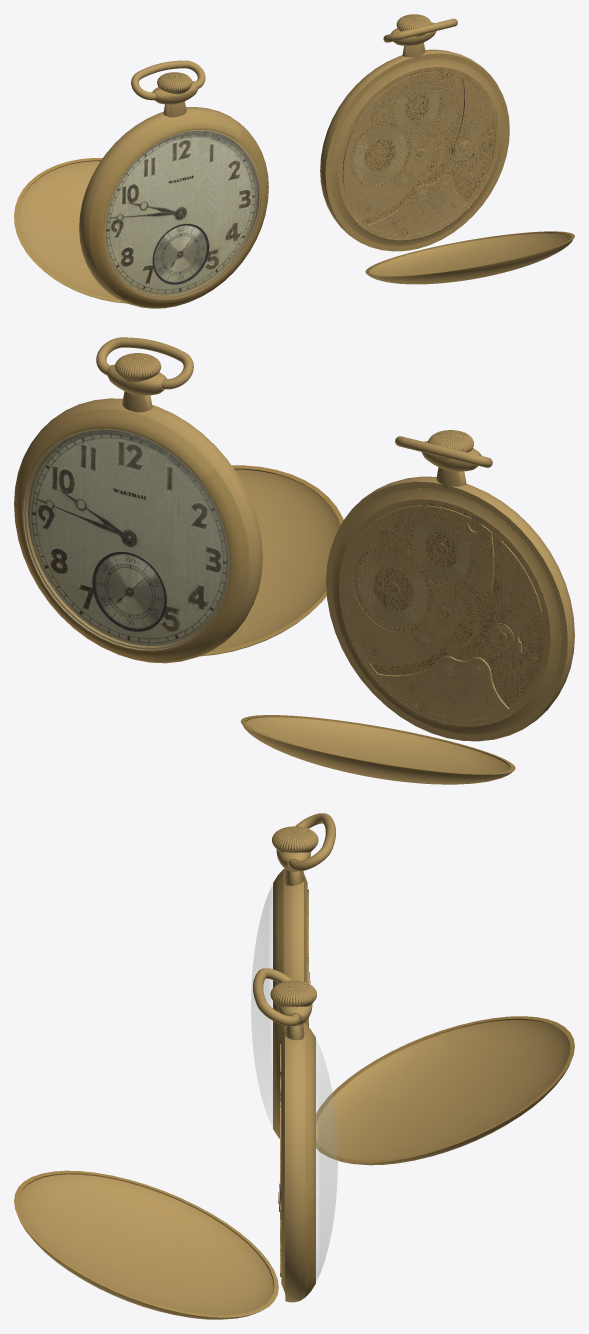
Rendered from watch.dae.
3 views of the same model, one above another, from view 1: azimuth 30°, elevation 25°; view 2: azimuth 150°, elevation 25°; view 3: azimuth 270°, elevation 25° (orthographic). The views are drawn at different scales.
Visible parts, largest first — view 1: group_3 (×3), group_0, group_1 (×3), group_10 (×4), group_11 (×4), group_2 (×3), group_5 (×2), group_8; view 2: group_3 (×3), group_0, group_1 (×3), group_10 (×4), group_11 (×4), group_2 (×3), group_5 (×2), group_8 (×2); view 3: group_10 (×4), group_11 (×3), group_0 (×2), group_2 (×2), group_5 (×2).
Boxes of the visible parts, bbox=[...] form: group_3 (×3): bbox=[338, 67, 499, 240]; group_0: bbox=[105, 130, 261, 298]; group_1 (×3): bbox=[105, 130, 258, 295]; group_10 (×4): bbox=[14, 158, 574, 303]; group_11 (×4): bbox=[79, 49, 509, 308]; group_2 (×3): bbox=[89, 115, 268, 307]; group_5 (×2): bbox=[131, 18, 457, 100]; group_8: bbox=[152, 81, 198, 104]; group_3 (×3): bbox=[339, 499, 550, 726]; group_0: bbox=[23, 429, 229, 650]; group_1 (×3): bbox=[28, 429, 228, 646]; group_10 (×4): bbox=[200, 465, 515, 784]; group_11 (×4): bbox=[14, 398, 574, 741]; group_2 (×3): bbox=[14, 409, 249, 661]; group_5 (×2): bbox=[96, 337, 492, 467]; group_8 (×2): bbox=[107, 364, 481, 471]; group_10 (×4): bbox=[14, 1016, 574, 1319]; group_11 (×3): bbox=[281, 868, 305, 1302]; group_0 (×2): bbox=[251, 886, 337, 1280]; group_2 (×2): bbox=[273, 869, 315, 1296]; group_5 (×2): bbox=[253, 813, 335, 1026].
Bounding box in the file's own units: 175 × 151 × 92.16.
9 materials, 5 textured.
